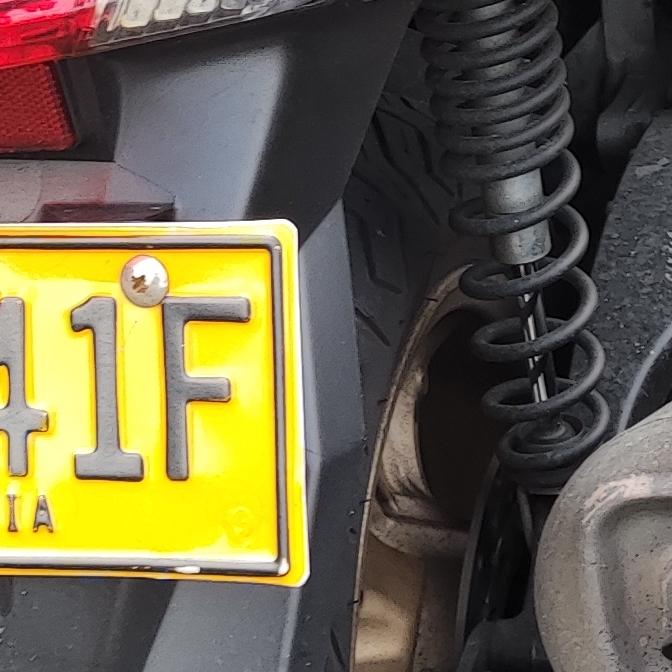plates: (0, 237, 297, 587)
